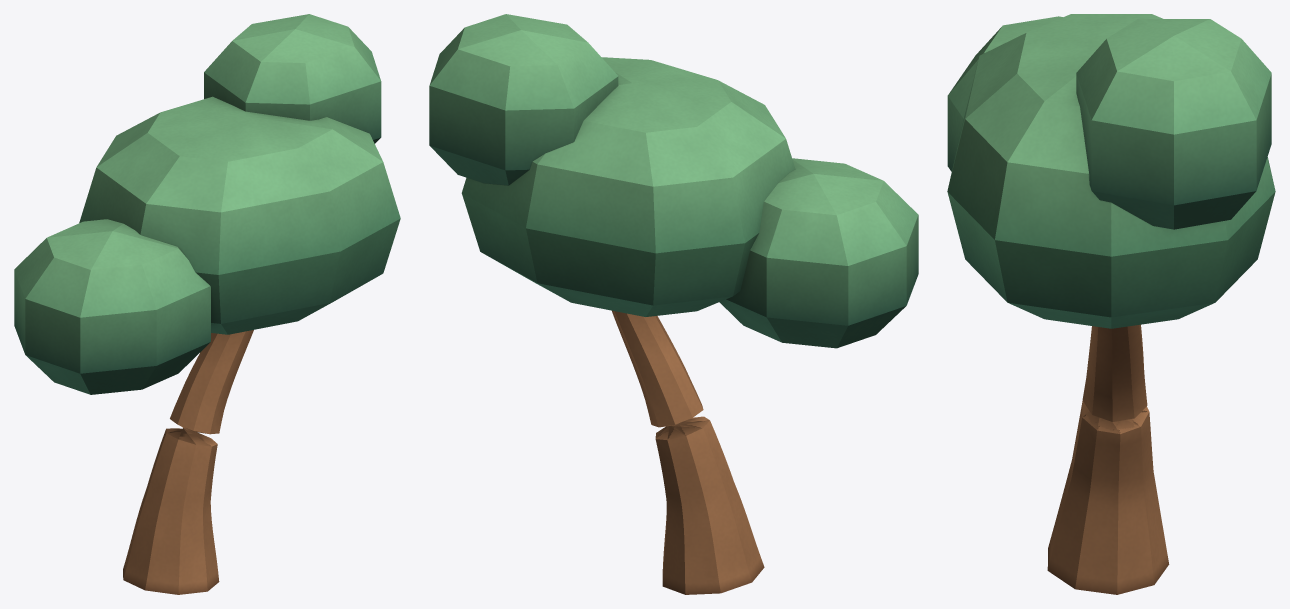
The model's file is d3_tree.glb.
3 renders of one model, left to right at view 1: azimuth 30°, elevation 25°; view 2: azimuth 150°, elevation 25°; view 3: azimuth 270°, elevation 25°, orthographic. The views are drawn at different scales.
Parts seen in each view (by area): view 1: Tree; view 2: Tree; view 3: Tree.
Part boxes in pixels (x1,y1,x2,y2): Tree: [14, 14, 400, 594]; Tree: [429, 14, 918, 594]; Tree: [947, 14, 1275, 594].
Bounding box in the file's own units: 2.37 × 2.87 × 1.36.
Materials: 1 (1 with a texture image).
